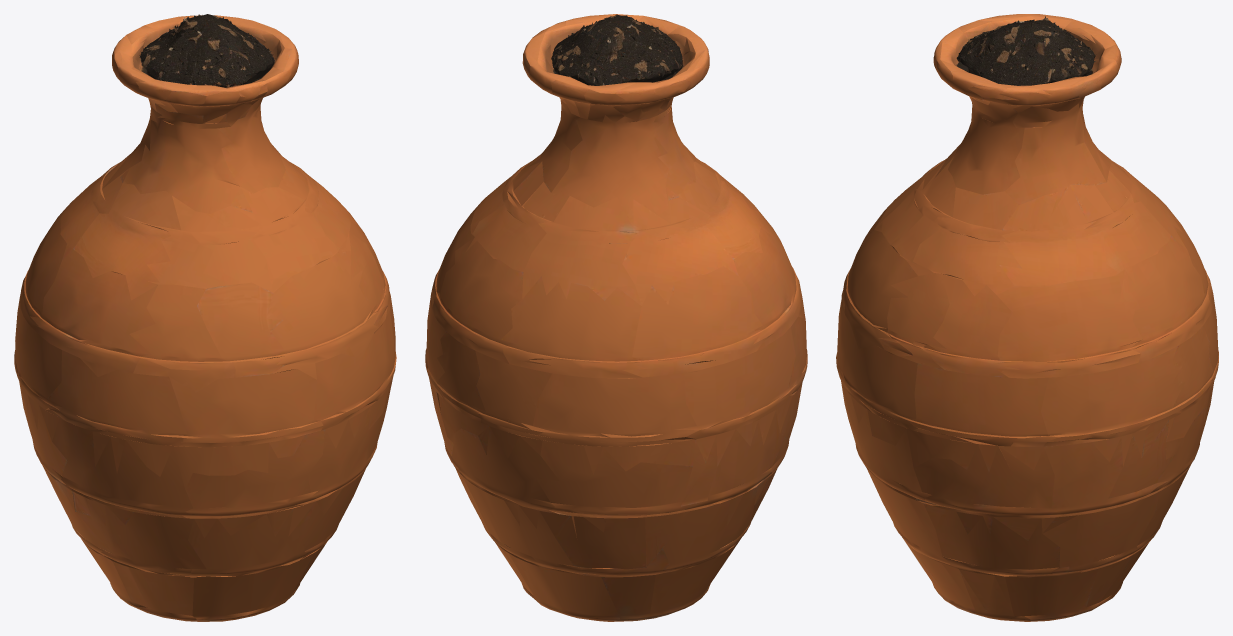
Rendered from amphora-planter-tall.glb.
3 views of the same model, side by side, from view 1: azimuth 30°, elevation 25°; view 2: azimuth 150°, elevation 25°; view 3: azimuth 270°, elevation 25° (orthographic).
Visible parts, largest first — view 1: amphora-planter-tall; view 2: amphora-planter-tall; view 3: amphora-planter-tall.
Boxes of the visible parts, bbox=[...] form: amphora-planter-tall: bbox=[14, 14, 396, 621]; amphora-planter-tall: bbox=[425, 14, 807, 621]; amphora-planter-tall: bbox=[836, 14, 1218, 621].
Size of the model in its own units: 0.6113 by 0.9998 by 0.6113.
Materials: 1 (1 with a texture image).
